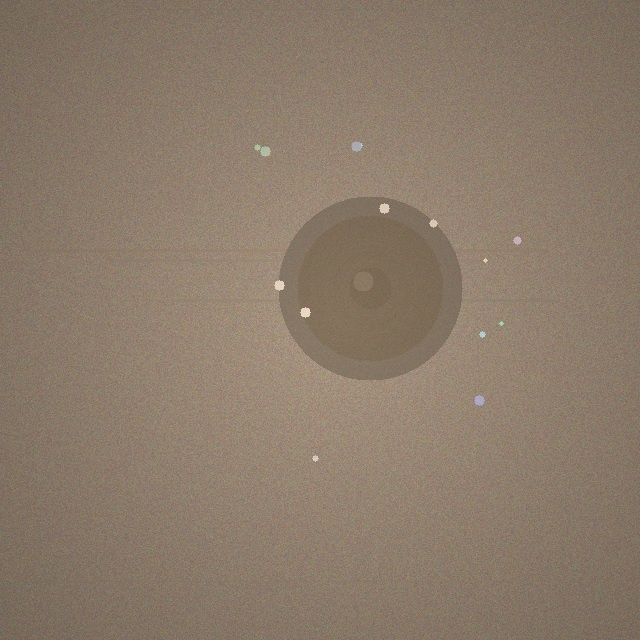overburn: (278, 196, 462, 380)
